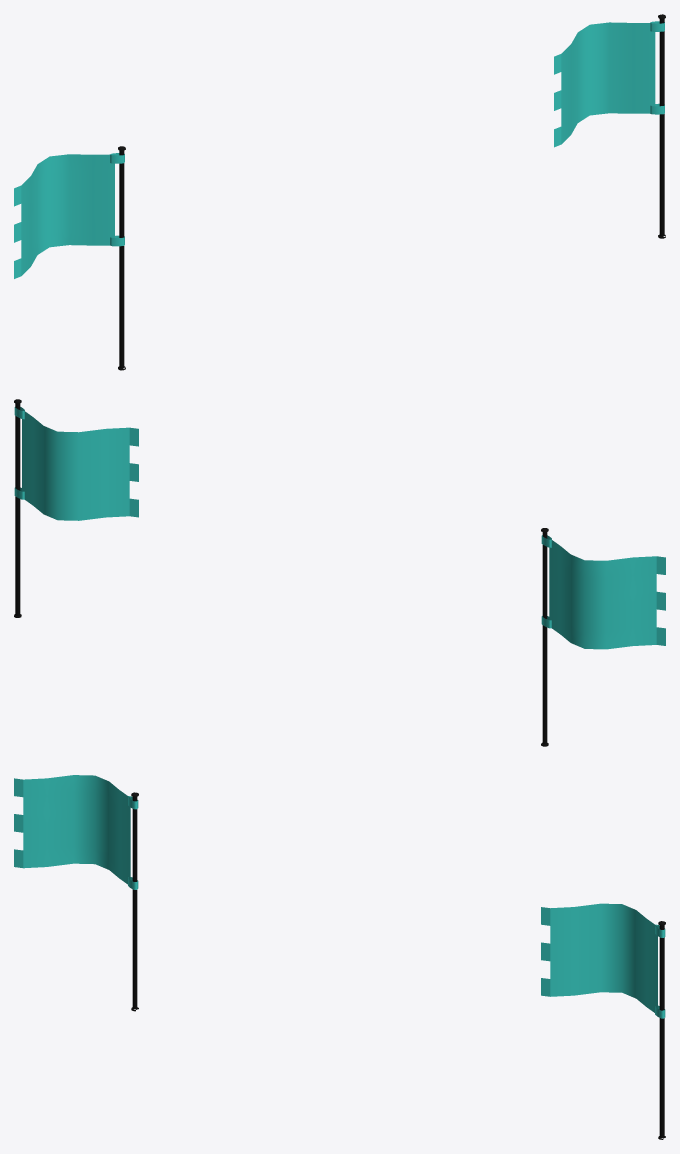
File: Flag.fbx
3 renders of one model, top to bottom at view 1: azimuth 30°, elevation 25°; view 2: azimuth 150°, elevation 25°; view 3: azimuth 330°, elevation 25°, orthographic. The views are drawn at different scales.
Parts seen in each view (by area): view 1: Flag_2, Flag_1; view 2: Flag_2, Flag_1; view 3: Flag_2, Flag_1.
Part boxes in pixels (bbox=[...]): Flag_2: bbox=[14, 21, 664, 278]; Flag_1: bbox=[118, 14, 665, 370]; Flag_2: bbox=[14, 407, 665, 649]; Flag_1: bbox=[14, 399, 548, 746]; Flag_2: bbox=[14, 775, 665, 1018]; Flag_1: bbox=[131, 792, 665, 1139].
Size of the model in its own units: 21.21 by 6.82 by 1.33.
